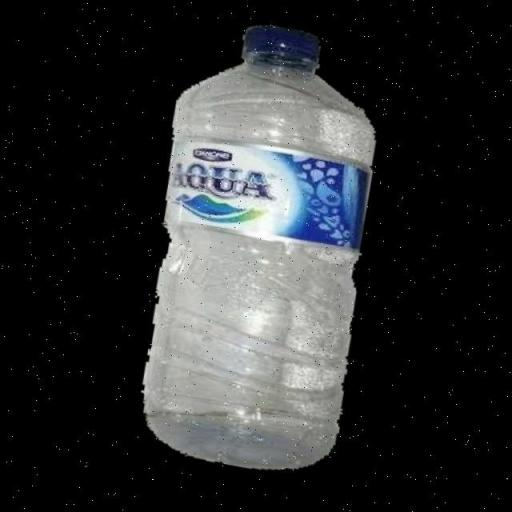plastic: (102, 9, 412, 486)
